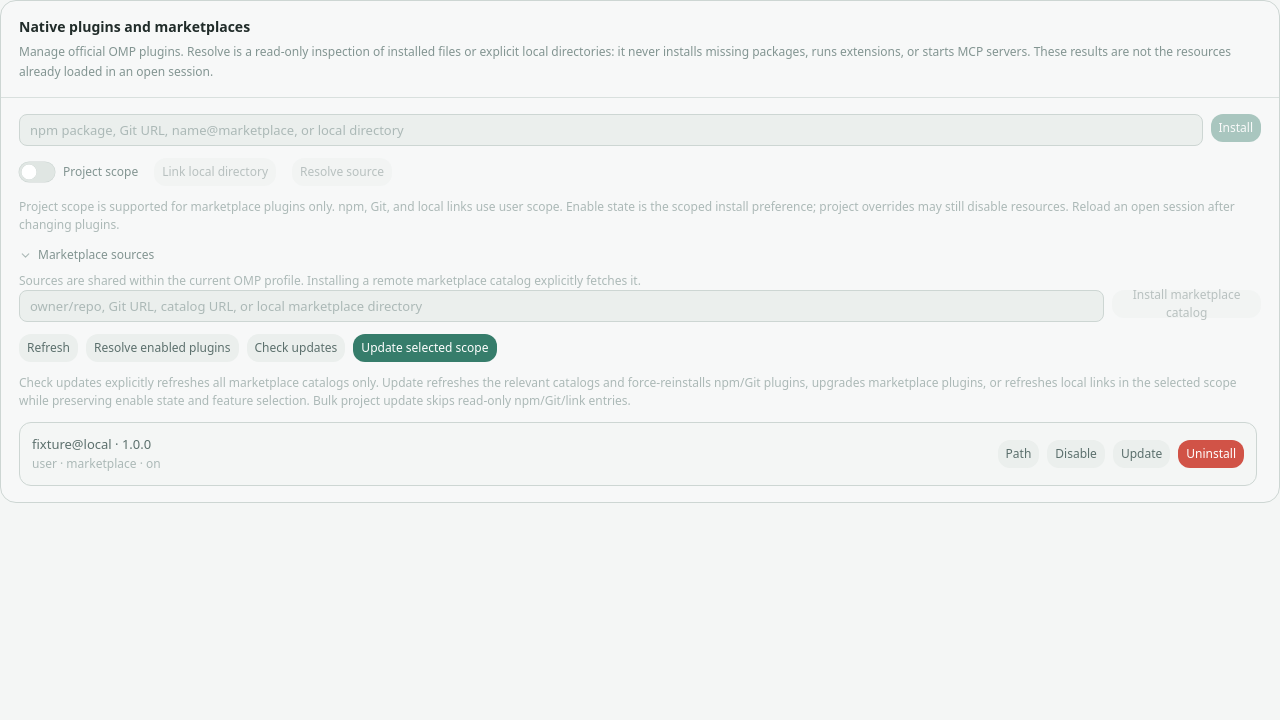
native package management › runs network update checks only after explicit user action and exposes errors
The width and height of the screenshot is (1280, 720).
Expected: the button "Disable" is shown, x1=1047 y1=440 x2=1105 y2=468
Step 1. Click the button "Check updates" → (296, 348), box x1=246 y1=334 x2=345 y2=362
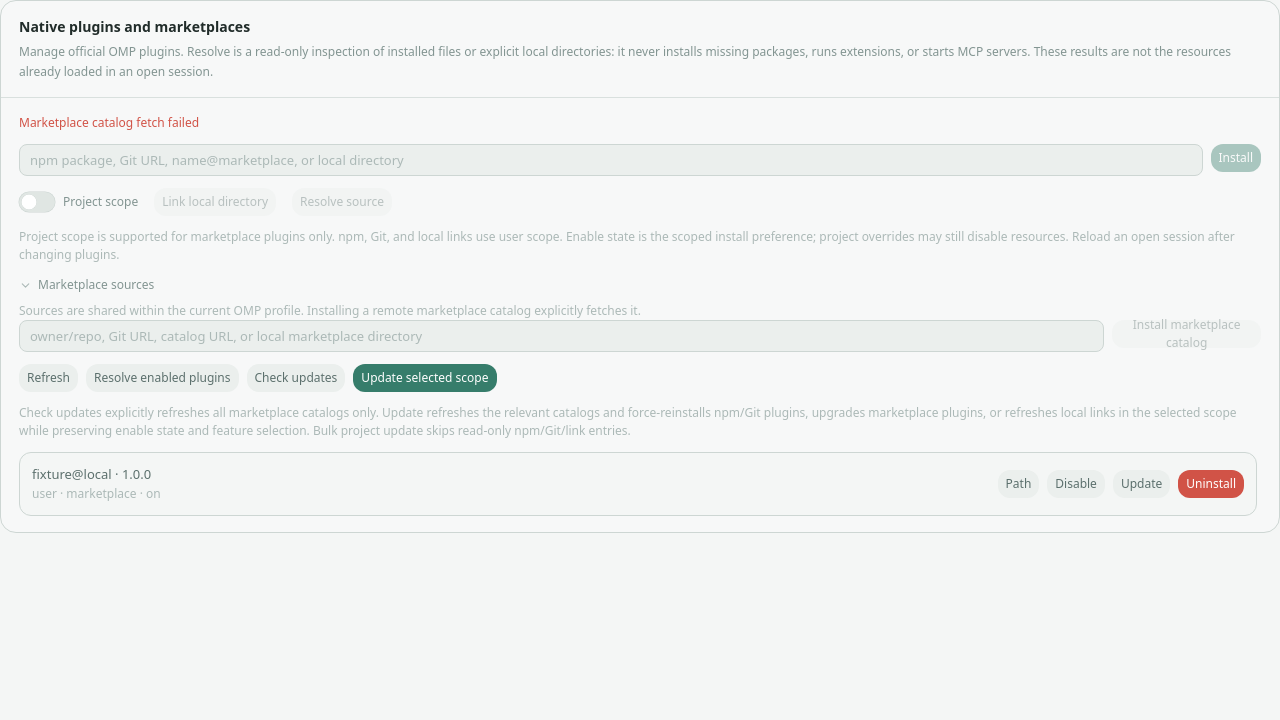
Expected: the text "fixture@local · 1.0.0" is shown, x1=32 y1=465 x2=151 y2=483
Result: the message reads "Marketplace catalog fetch failed" at x1=19 y1=114 x2=199 y2=131
